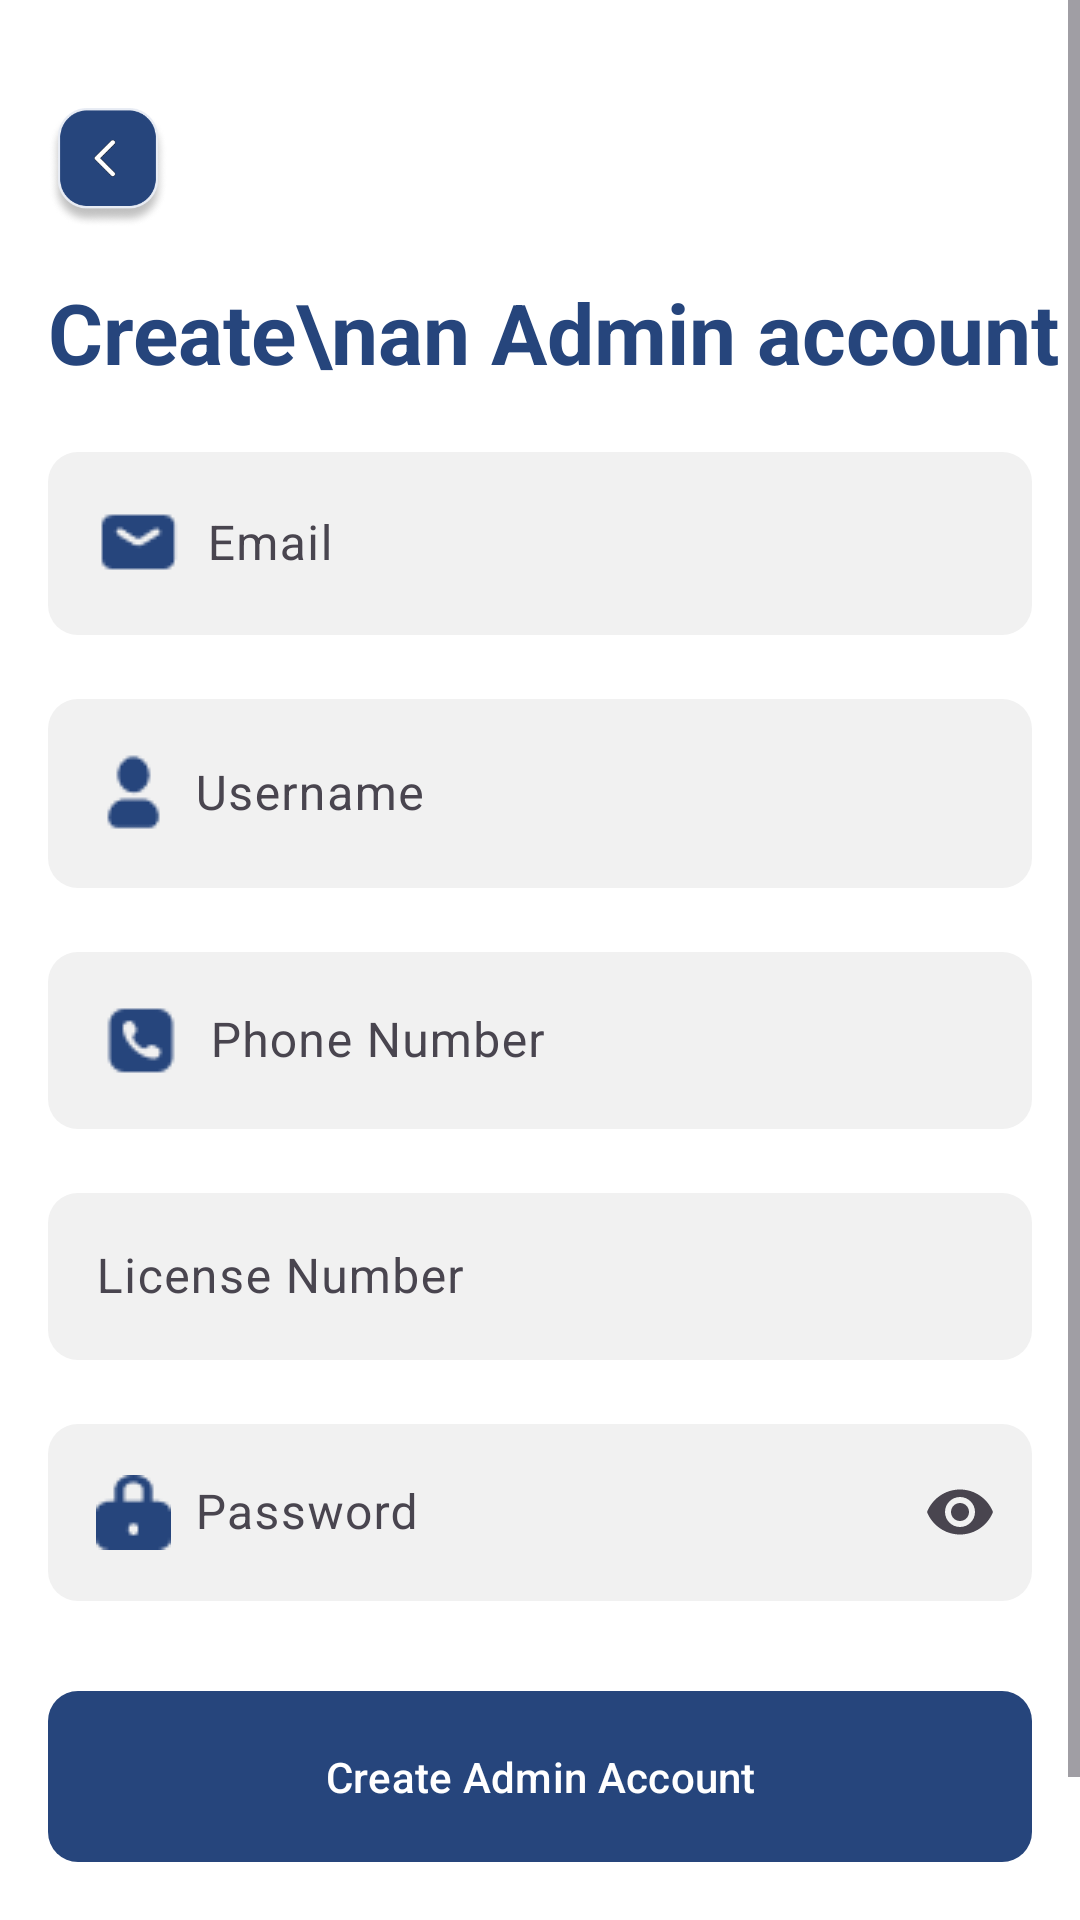

Screen size 1080×1920. Icon name, then its center in pixels as [x,y]:
Back: [108,165]
